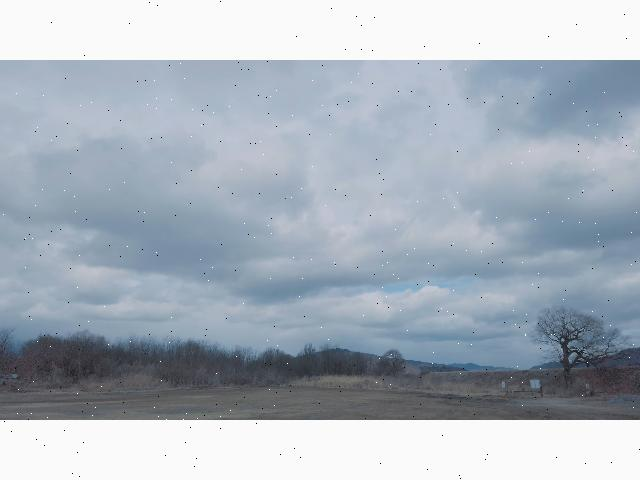Anti-Drone: (278, 193, 294, 203)
